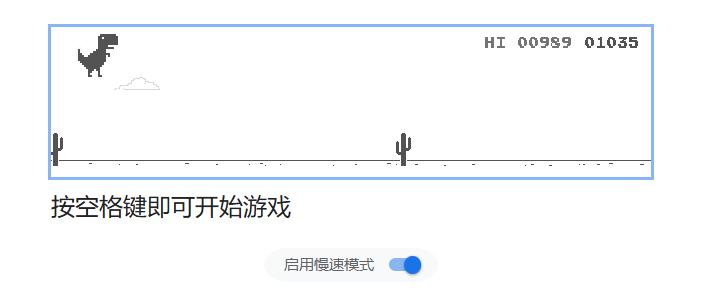cactus: (395, 132, 412, 166), (52, 131, 65, 168)
dino: (77, 33, 118, 78)
